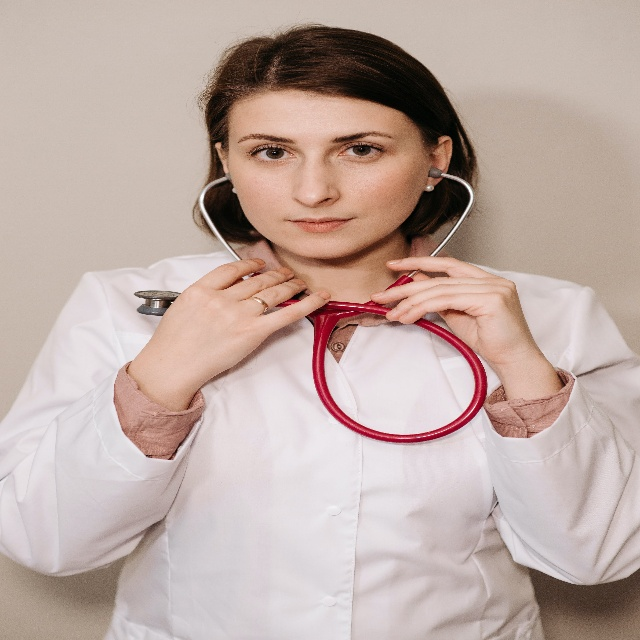Sin_guantes: (369, 254, 533, 371), (154, 259, 331, 365)
